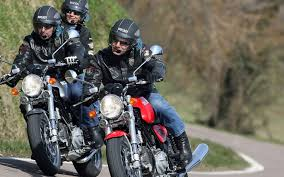helmet: (105, 16, 139, 61), (32, 6, 62, 39)
